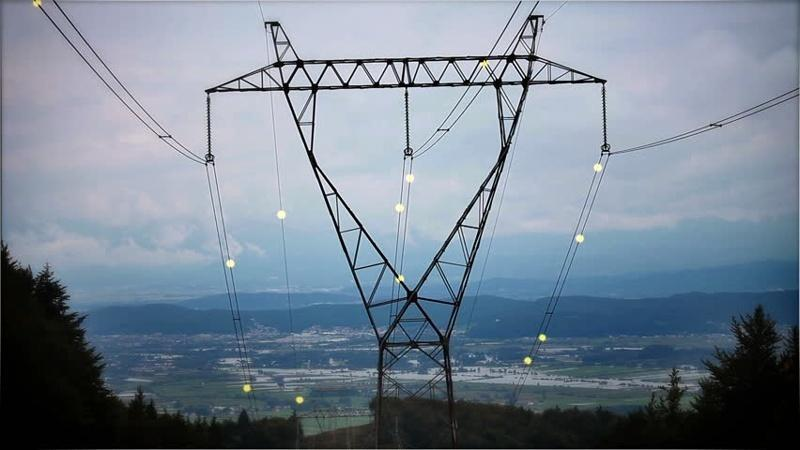power_tower: (212, 20, 601, 397)
